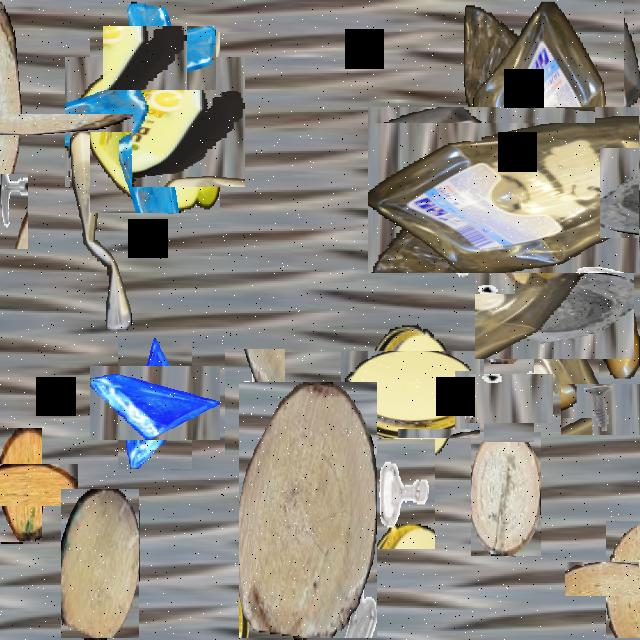glass: (492, 252, 616, 377), (104, 352, 206, 455), (114, 14, 204, 103)
metal: (373, 439, 435, 549), (225, 349, 285, 455), (571, 372, 640, 445), (474, 363, 544, 433), (426, 200, 492, 266), (0, 174, 28, 249)
plastic: (420, 54, 640, 326), (77, 45, 233, 200), (354, 338, 468, 451), (70, 132, 132, 330), (464, 2, 538, 126), (624, 2, 640, 229)
wood: (239, 382, 377, 638), (61, 489, 139, 638), (0, 57, 77, 191), (471, 432, 541, 556), (0, 446, 60, 524), (585, 541, 640, 617)
